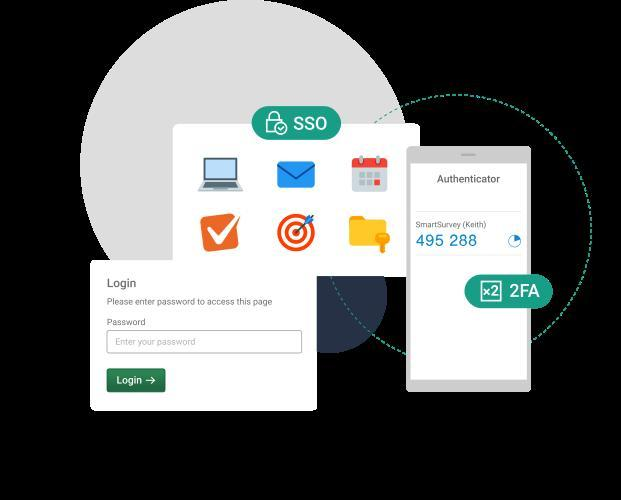button: (108, 370, 166, 394)
checkbox: (203, 214, 238, 254)
icon: (349, 152, 392, 196), (200, 154, 244, 196), (348, 213, 393, 253), (275, 212, 314, 251), (275, 160, 318, 189), (264, 108, 287, 138)
input: (108, 331, 304, 354)
label: (107, 316, 152, 333), (106, 274, 144, 293)
